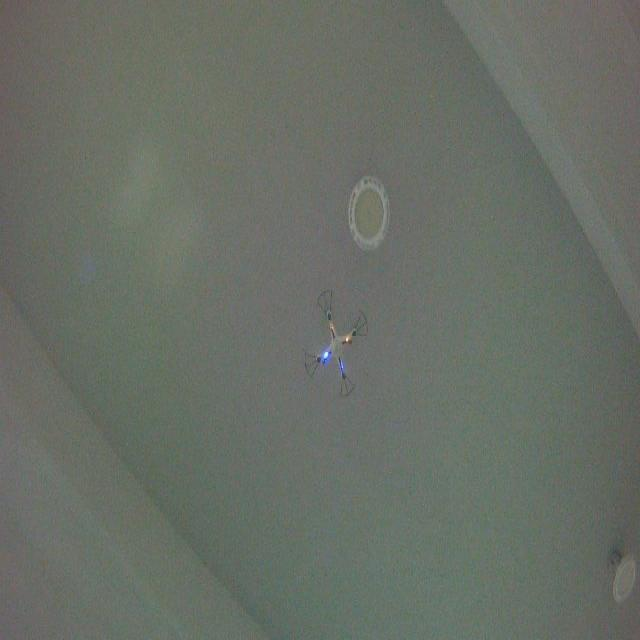drone: (301, 285, 372, 402)
